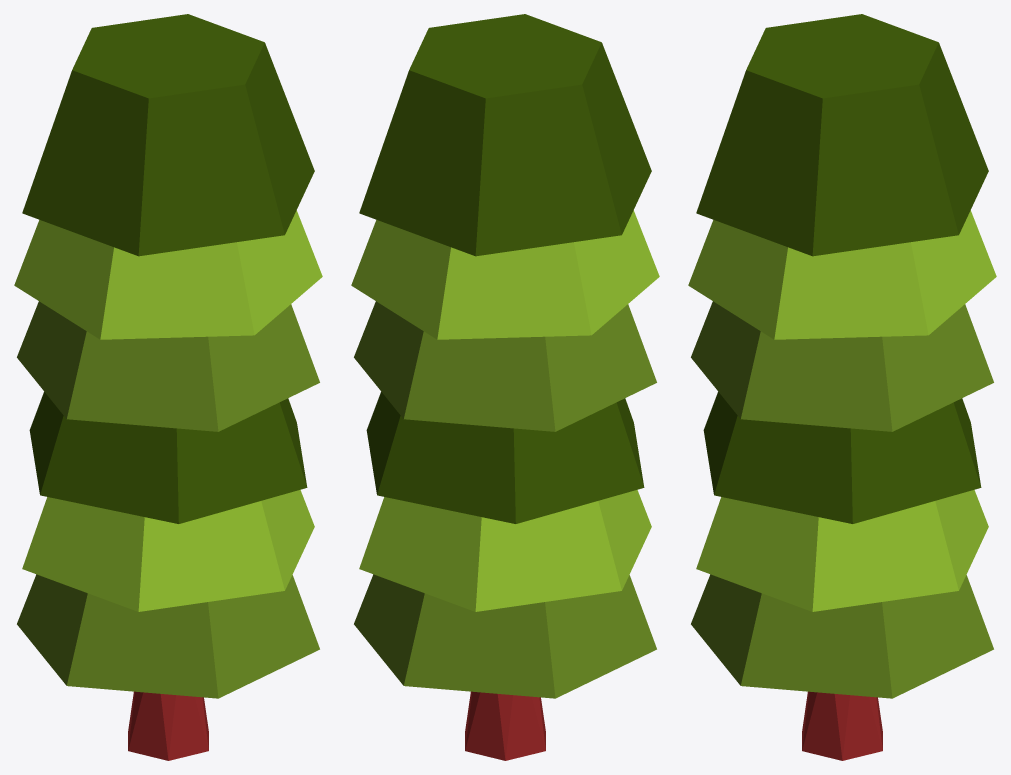
File: kebab_tree_small.fbx
The picture shows the model from 3 angles, left to right: view 1: azimuth 30°, elevation 25°; view 2: azimuth 150°, elevation 25°; view 3: azimuth 270°, elevation 25°; orthographic projection.
Visible parts, largest first — view 1: G-Object.006, G-Object.001, G-Object.007, G-Object.002, G-Object.004, G-Object.005, G-Object.003; view 2: G-Object.006, G-Object.001, G-Object.007, G-Object.002, G-Object.004, G-Object.005, G-Object.003; view 3: G-Object.006, G-Object.001, G-Object.007, G-Object.002, G-Object.004, G-Object.005, G-Object.003.
Boxes of the visible parts, x1,y1,x2,y2 form: G-Object.006: [22, 14, 314, 256]; G-Object.001: [14, 210, 322, 339]; G-Object.007: [17, 301, 319, 431]; G-Object.002: [17, 574, 319, 698]; G-Object.004: [22, 489, 314, 611]; G-Object.005: [29, 391, 307, 523]; G-Object.003: [128, 691, 208, 760]; G-Object.006: [359, 14, 651, 256]; G-Object.001: [351, 210, 659, 339]; G-Object.007: [354, 301, 656, 431]; G-Object.002: [354, 574, 656, 698]; G-Object.004: [359, 489, 651, 611]; G-Object.005: [366, 391, 644, 523]; G-Object.003: [465, 691, 545, 760]; G-Object.006: [696, 14, 988, 256]; G-Object.001: [688, 210, 996, 339]; G-Object.007: [691, 301, 993, 431]; G-Object.002: [691, 574, 993, 698]; G-Object.004: [696, 489, 988, 611]; G-Object.005: [703, 391, 981, 523]; G-Object.003: [802, 691, 882, 760].
Size of the model in its own units: 267 by 655 by 267.
